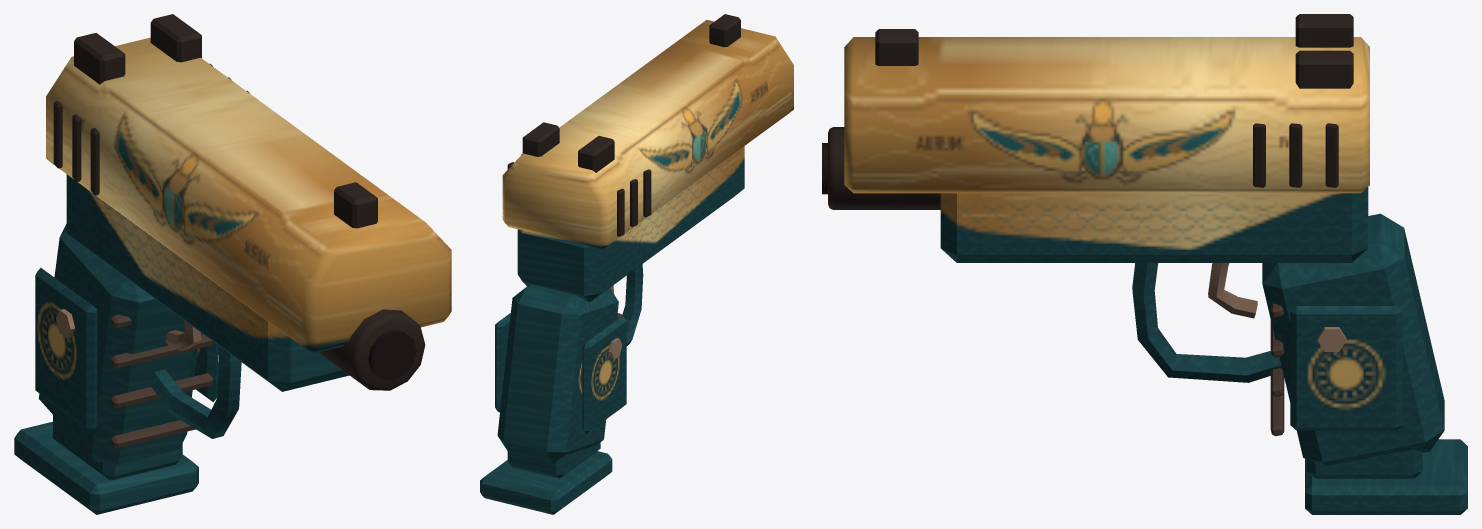
The model's file is Deagle_Scarab.glb.
3 views of the same model, side by side, from view 1: azimuth 30°, elevation 25°; view 2: azimuth 150°, elevation 25°; view 3: azimuth 270°, elevation 25° (orthographic). The views are drawn at different scales.
Visible parts, largest first — view 1: Slide, Main, Magazine; view 2: Slide, Main, Magazine; view 3: Slide, Main, Magazine.
Part boxes in pixels (x1,y1,x2,y2): Slide: (46, 14, 451, 353); Main: (35, 174, 425, 464); Magazine: (14, 415, 198, 514); Slide: (502, 14, 793, 249); Main: (495, 146, 744, 463); Magazine: (480, 442, 612, 514); Slide: (844, 14, 1369, 193); Main: (822, 127, 1444, 466); Magazine: (1305, 439, 1467, 514).
Size of the model in its own units: 0.498 by 1.4 by 1.78.
2 materials, 1 textured.
